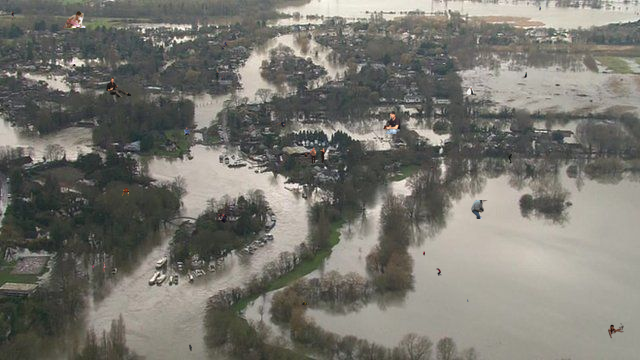Human: (106, 77, 131, 97), (304, 147, 334, 163), (383, 111, 401, 134), (63, 11, 86, 28), (471, 200, 488, 219), (608, 323, 624, 342), (272, 121, 287, 136), (91, 262, 106, 272), (215, 214, 227, 223), (466, 86, 476, 96), (219, 42, 228, 51), (215, 70, 220, 82), (122, 188, 129, 196), (184, 127, 190, 135), (436, 268, 442, 276), (521, 72, 527, 79), (508, 154, 512, 163), (302, 301, 309, 305), (11, 11, 14, 20), (189, 344, 192, 351), (72, 64, 76, 68), (467, 299, 471, 302), (539, 6, 541, 11), (423, 251, 425, 256), (431, 166, 433, 171), (221, 75, 224, 78)
